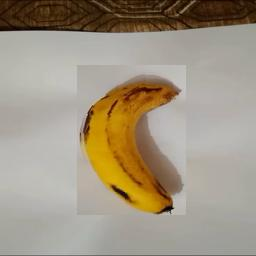Banana Semifresh: (77, 65, 186, 215)
